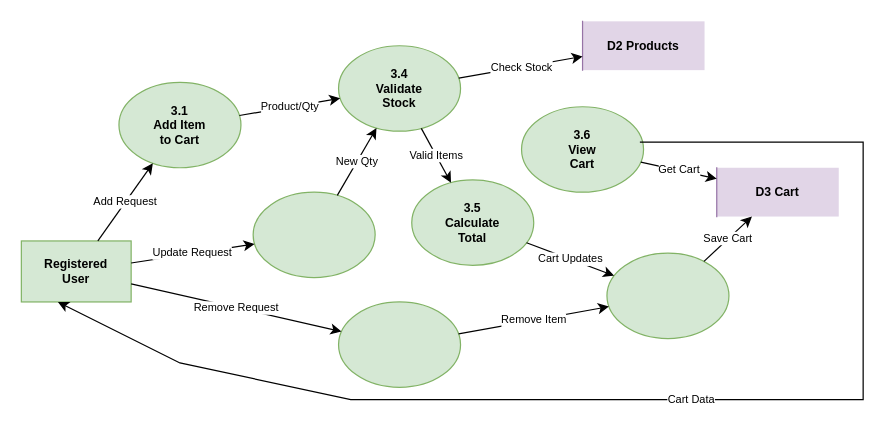
Image size: 894x431. Some labels were removed from this diagram. Each missing label, with the centre of its shape:
"3.2 Update Quantity" belongs at point 313,234.
"3.3 Remove Item" belongs at point 399,344.
"3.7 Update Cart DB" belongs at point 667,295.
